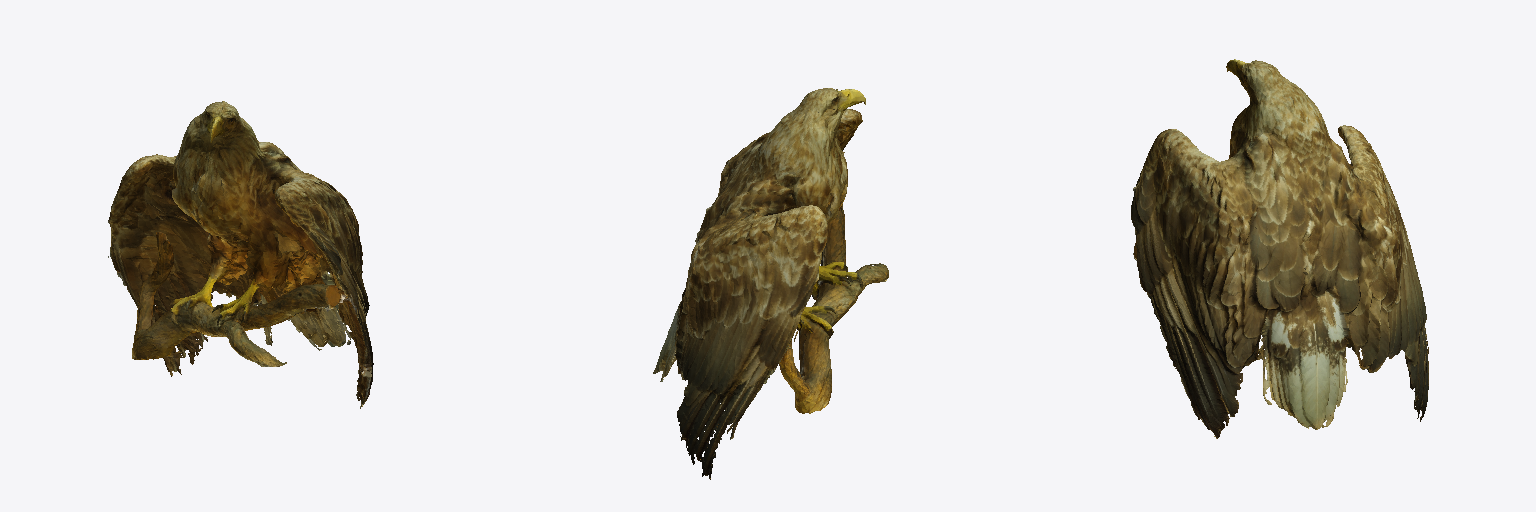
The picture shows the model from 3 angles: view 1: azimuth 30°, elevation 25°; view 2: azimuth 150°, elevation 25°; view 3: azimuth 270°, elevation 25°; orthographic projection.
Visible parts, largest first — view 1: default; view 2: default; view 3: default.
Boxes of the visible parts, <box> form: default: <box>108,101,373,408</box>; default: <box>653,88,888,479</box>; default: <box>1131,59,1428,438</box>.
Size of the model in its own units: 7.39 by 12.27 by 9.77.
1 materials, 1 textured.